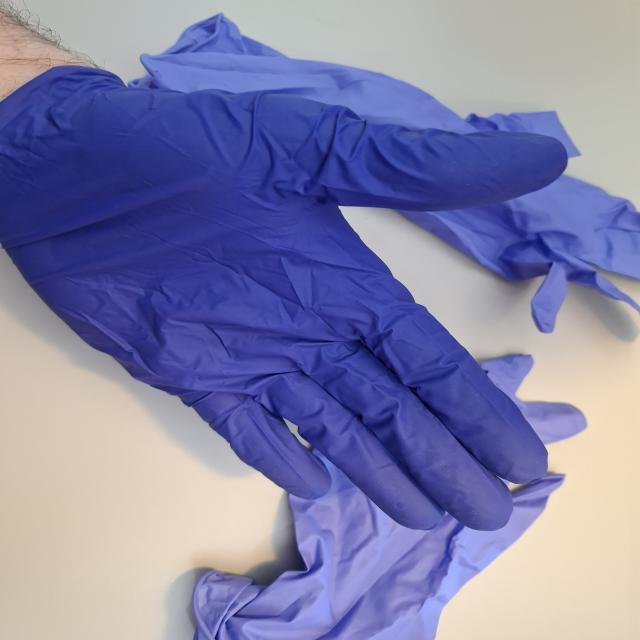glove_on: (0, 58, 574, 535)
